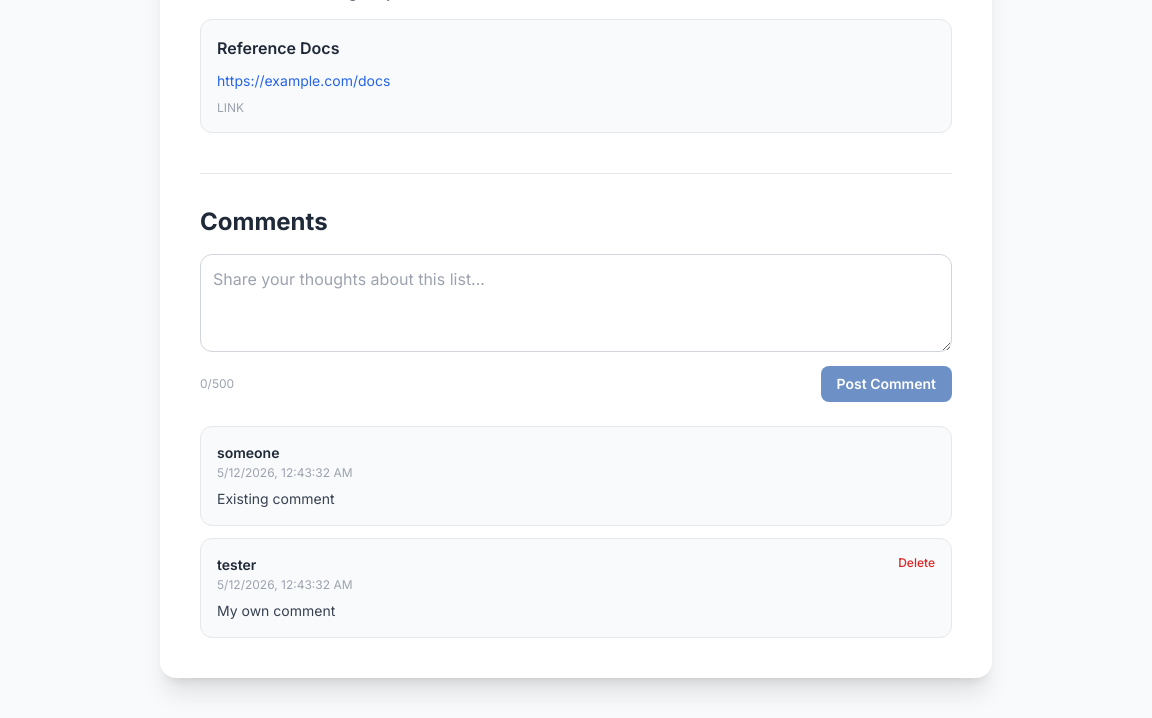
ListDetail › deletes a comment owned by current user
(page scrolled)
Expected: the text "My own comment" is shown, [217,602,335,619]
What coordinates should you click on to do the following:
click the button "Delete"
I would click on:
 (917, 563)
Its box is [898,555,935,571].
(page scrolled)
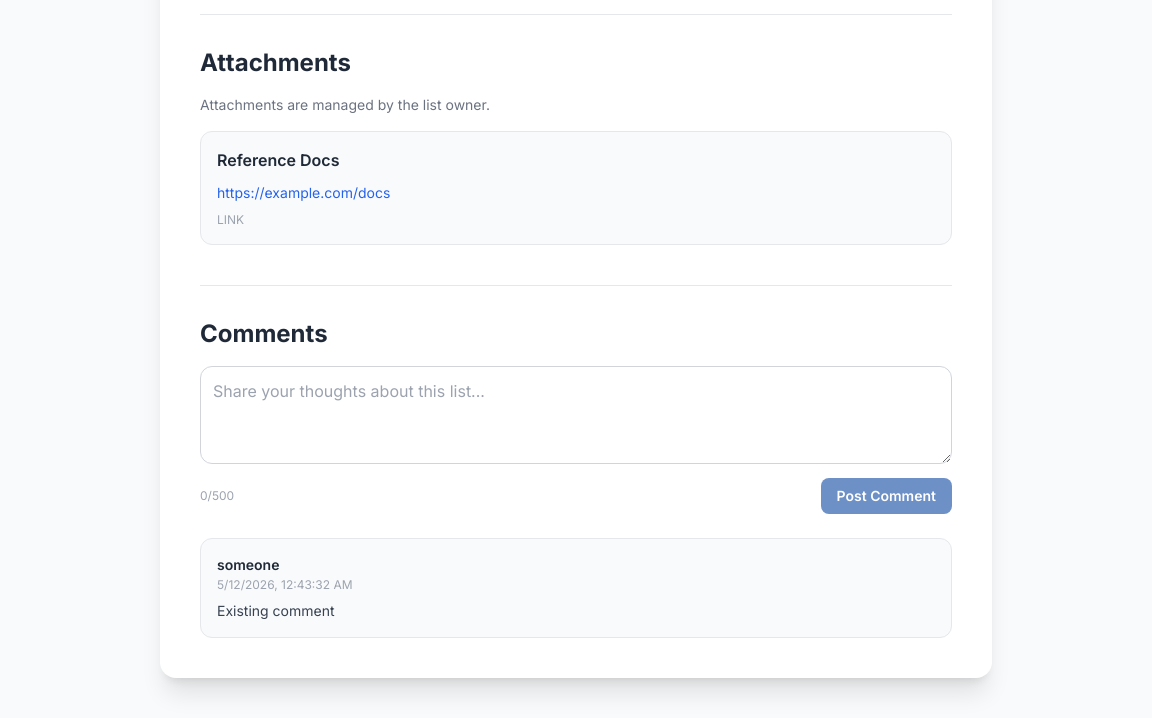
Result: the text "My own comment" is gone
